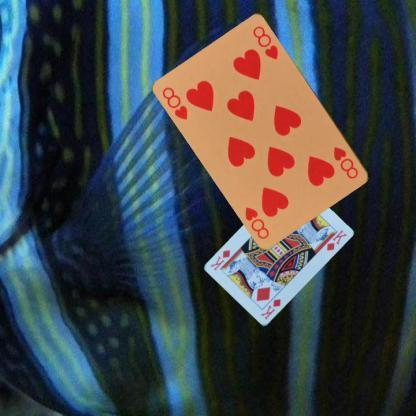8h: (160, 84, 190, 122), (331, 144, 360, 180)
Kd: (258, 297, 282, 322)
